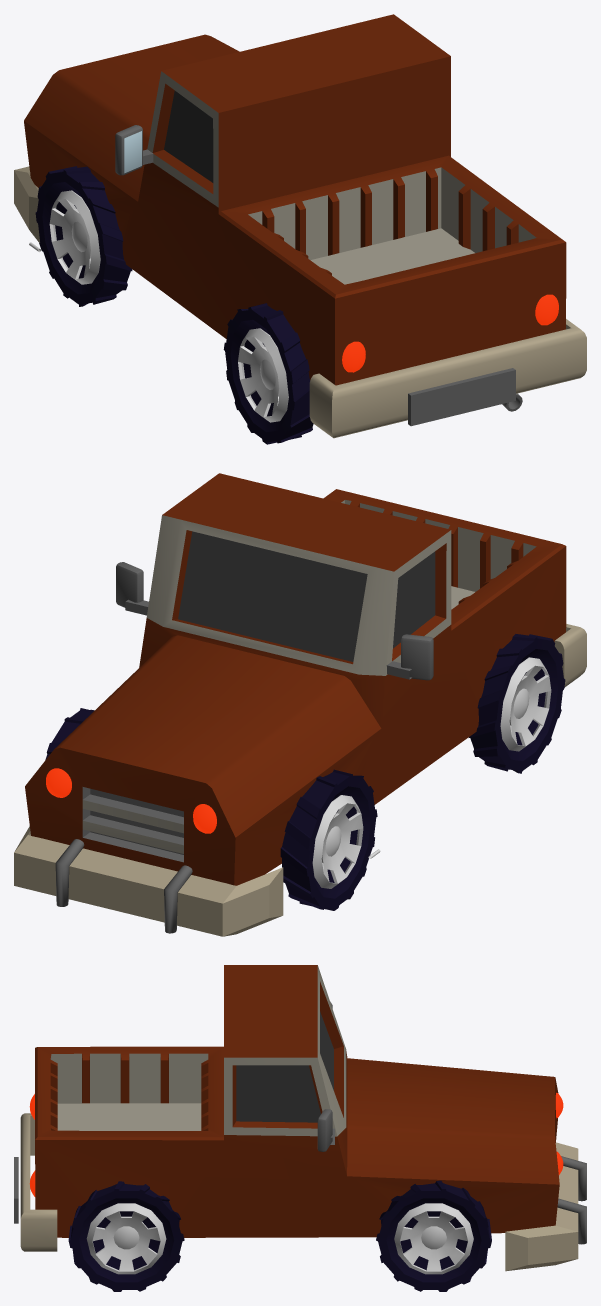
File: Car_Pickup_3.glb
3 renders of one model, top to bottom at view 1: azimuth 30°, elevation 25°; view 2: azimuth 150°, elevation 25°; view 3: azimuth 270°, elevation 25°, orthographic. The views are drawn at different scales.
Visible parts, largest first — view 1: Cube.5010, Cylinder.4298, Cube.5014, Cylinder.4299, Cube.5015, Cube.5013, Cube.5011, Sphere.845; view 2: Cube.5010, Cylinder.4298, Cube.5013, Cylinder.4299, Cube.5011, Plane.231, Cube.5014, Sphere.844, Cube.5012; view 3: Cube.5010, Cylinder.4298, Cylinder.4299, Cube.5013, Cube.5014, Plane.231, Cube.5011.
Part boxes in pixels (x1=…): Cube.5010: x1=24, y1=14, x2=566, y2=385; Cylinder.4298: x1=35, y1=166, x2=313, y2=444; Cube.5014: x1=309, y1=319, x2=586, y2=438; Cylinder.4299: x1=49, y1=190, x2=288, y2=422; Cube.5015: x1=408, y1=368, x2=515, y2=426; Cube.5013: x1=14, y1=166, x2=39, y2=242; Cube.5011: x1=115, y1=125, x2=142, y2=175; Sphere.845: x1=342, y1=294, x2=558, y2=372; Cube.5010: x1=25, y1=473, x2=566, y2=885; Cylinder.4298: x1=45, y1=634, x2=565, y2=910; Cube.5013: x1=14, y1=826, x2=283, y2=936; Cylinder.4299: x1=312, y1=657, x2=551, y2=888; Cube.5011: x1=116, y1=562, x2=433, y2=680; Plane.231: x1=55, y1=839, x2=192, y2=933; Cube.5014: x1=554, y1=624, x2=586, y2=687; Sphere.844: x1=46, y1=768, x2=216, y2=833; Cube.5012: x1=125, y1=599, x2=411, y2=679; Cube.5010: x1=35, y1=965, x2=559, y2=1237; Cylinder.4298: x1=68, y1=1180, x2=491, y2=1291; Cylinder.4299: x1=86, y1=1203, x2=473, y2=1274; Cube.5013: x1=505, y1=1142, x2=578, y2=1271; Cube.5014: x1=20, y1=1113, x2=57, y2=1251; Plane.231: x1=557, y1=1156, x2=586, y2=1244; Cube.5011: x1=317, y1=1001, x2=332, y2=1151.
Bounding box in the file's own units: 2.65 × 2.14 × 4.9.
